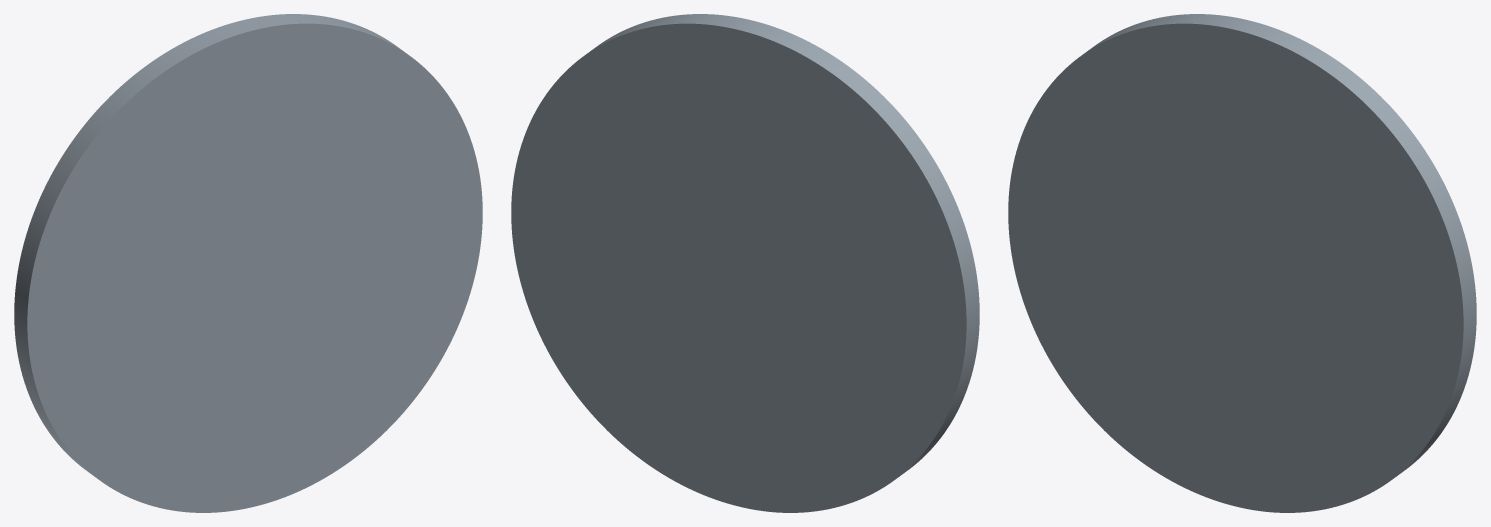
The model's file is base_button.dae.
3 views of the same model, side by side, from view 1: azimuth 30°, elevation 25°; view 2: azimuth 150°, elevation 25°; view 3: azimuth 330°, elevation 25° (orthographic).
Bounding box in the file's own units: 0.1 × 0.1 × 0.005.
